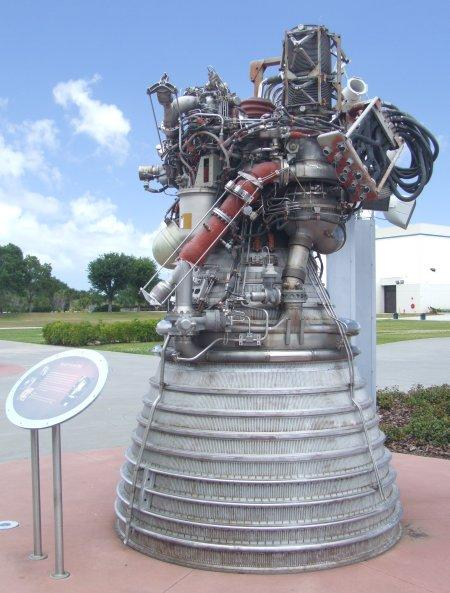thruster: (111, 231, 410, 577)
